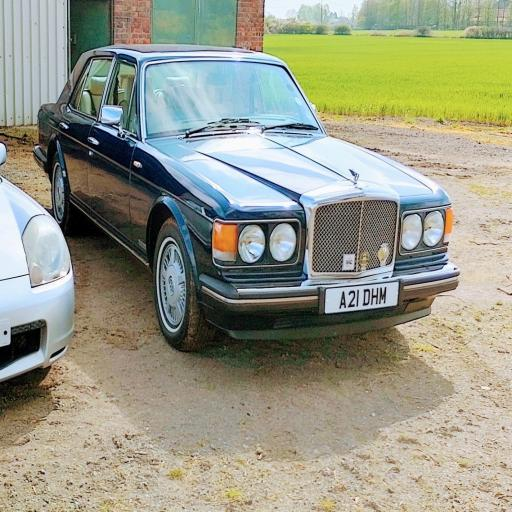numberplates: (325, 282, 398, 313), (0, 320, 10, 347)
